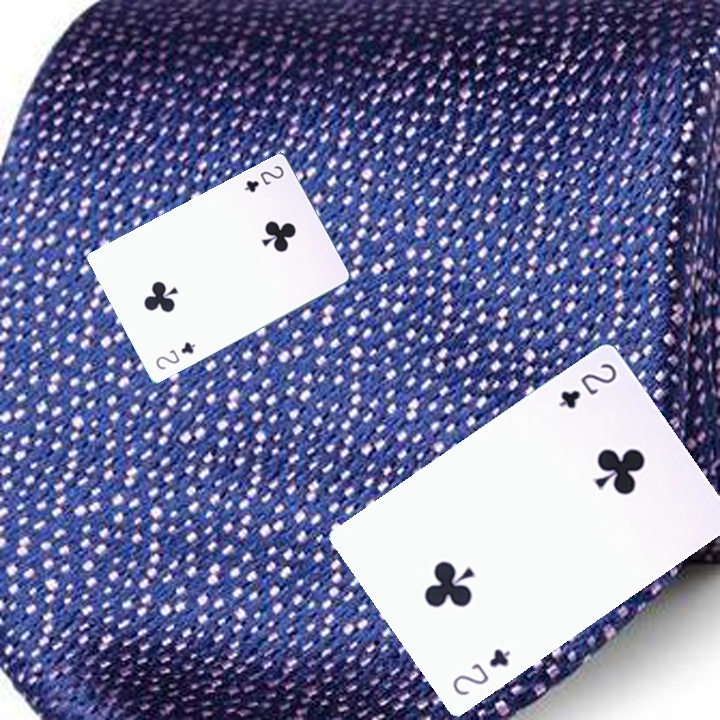2c: (448, 644, 514, 699), (554, 359, 620, 412), (240, 161, 287, 195), (152, 338, 198, 372)
